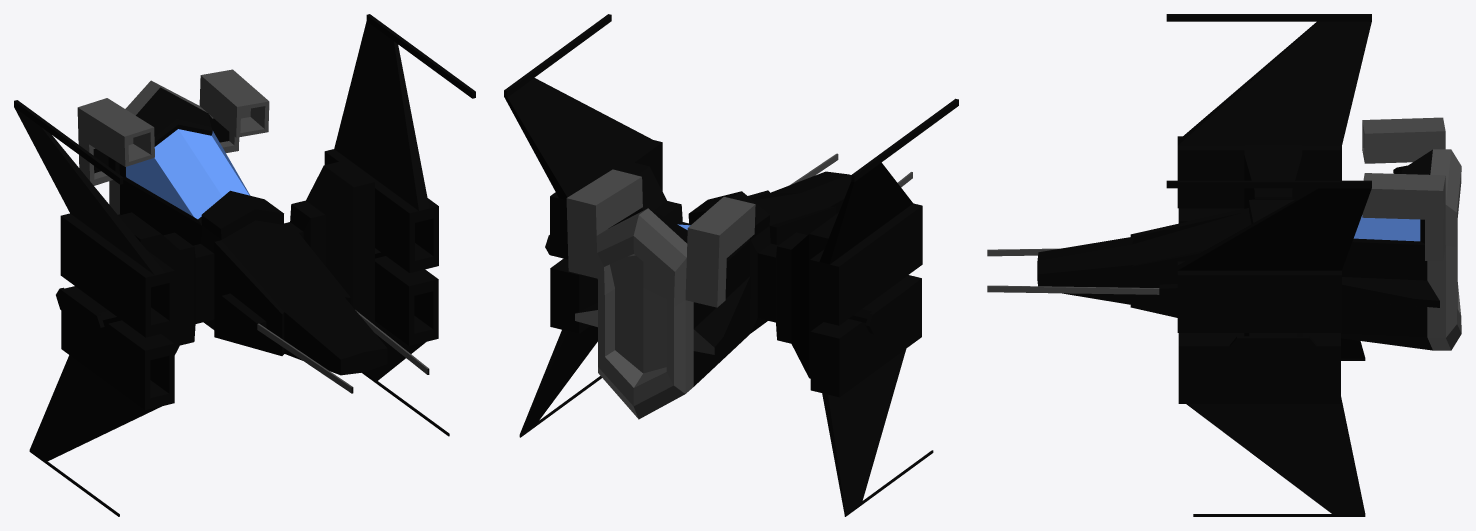
The model's file is GalacticMirage.glb.
3 renders of one model, left to right at view 1: azimuth 30°, elevation 25°; view 2: azimuth 150°, elevation 25°; view 3: azimuth 270°, elevation 25°, orthographic. The views are drawn at different scales.
Visible parts, largest first — view 1: GalacticMirage; view 2: GalacticMirage; view 3: GalacticMirage.
Part boxes in pixels (x1=…): GalacticMirage: x1=14, y1=14, x2=475, y2=516; GalacticMirage: x1=504, y1=14, x2=958, y2=516; GalacticMirage: x1=987, y1=14, x2=1461, y2=516.
Bounding box in the file's own units: 27.31 × 25.79 × 32.56.
Materials: 1 (1 with a texture image).
